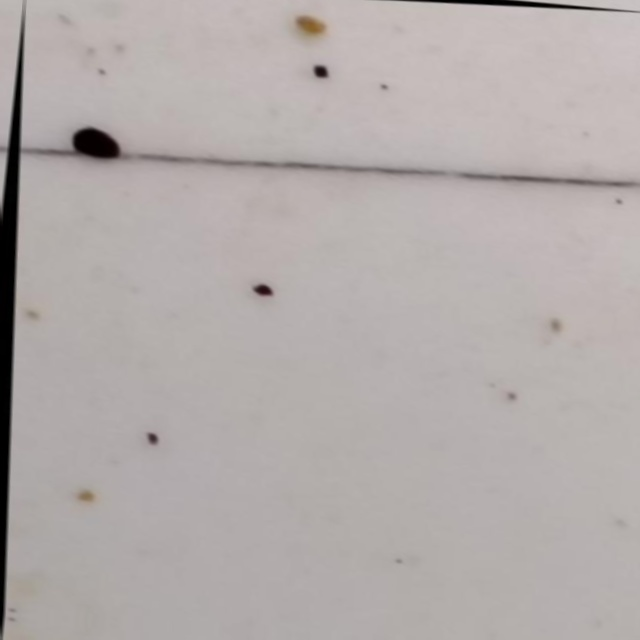varroa: (63, 123, 122, 165)
